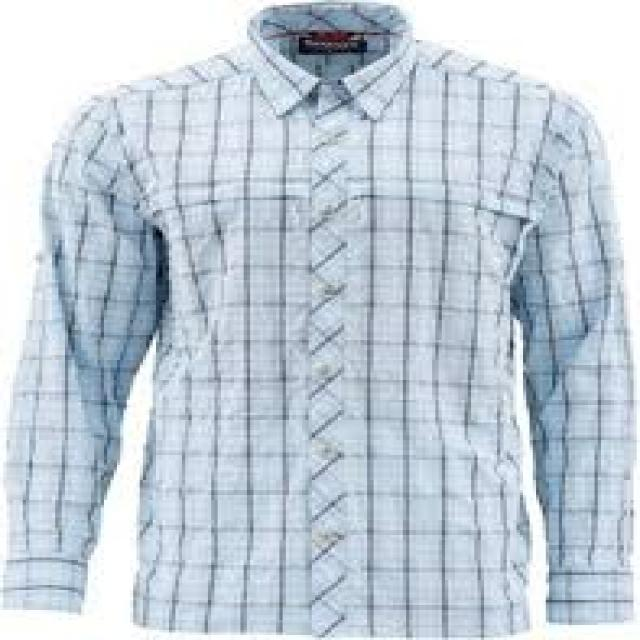plaid: (22, 7, 627, 640)
